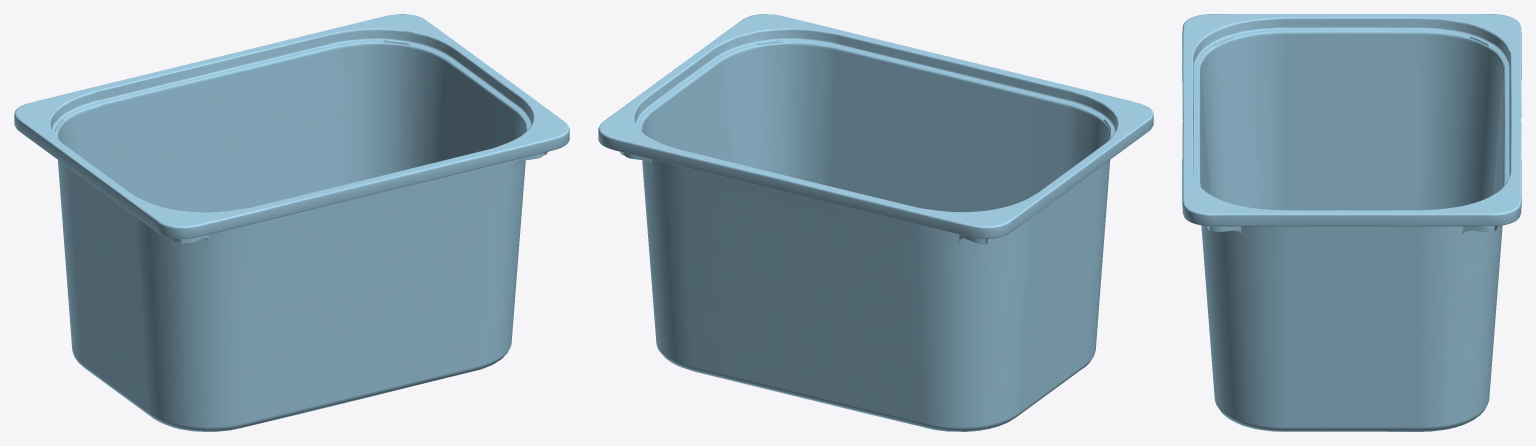
Rendered from trofast_pojemnik_50582091.glb.
The picture shows the model from 3 angles, left to right: view 1: azimuth 30°, elevation 25°; view 2: azimuth 150°, elevation 25°; view 3: azimuth 270°, elevation 25°; orthographic projection.
Visible parts, largest first — view 1: trofast_pojemnik_50582091; view 2: trofast_pojemnik_50582091; view 3: trofast_pojemnik_50582091.
Boxes of the visible parts, left/top/right/bottom form: trofast_pojemnik_50582091: left=14, top=14, right=569, bottom=431; trofast_pojemnik_50582091: left=598, top=14, right=1153, bottom=431; trofast_pojemnik_50582091: left=1182, top=14, right=1521, bottom=431.
Size of the model in its own units: 0.4186 by 0.2278 by 0.2991.
Materials: 1 (1 with a texture image).
